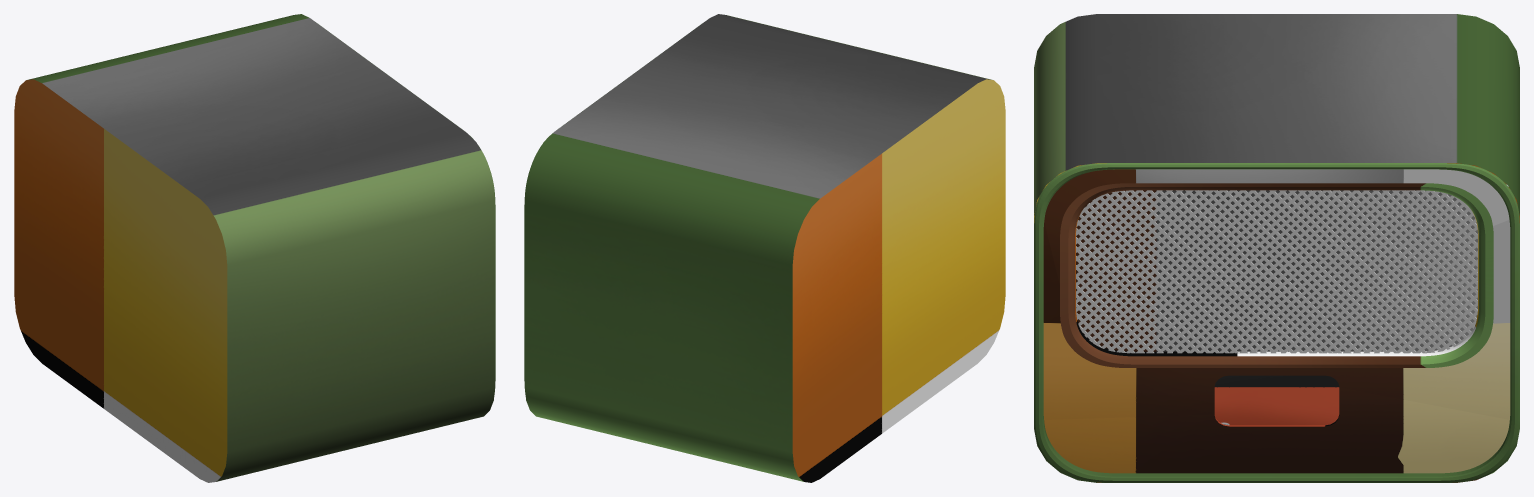
File: radio.obj
3 views of the same model, side by side, from view 1: azimuth 30°, elevation 25°; view 2: azimuth 150°, elevation 25°; view 3: azimuth 270°, elevation 25° (orthographic). The views are drawn at different scales.
Parts seen in each view (by area): view 1: Radio_Cube.002; view 2: Radio_Cube.002; view 3: Radio_Cube.002.
Boxes of the visible parts, bbox=[...] form: Radio_Cube.002: bbox=[14, 14, 495, 482]; Radio_Cube.002: bbox=[524, 14, 1005, 482]; Radio_Cube.002: bbox=[1034, 14, 1519, 482].
Bounding box in the file's own units: 2.01 × 2 × 2.75.
